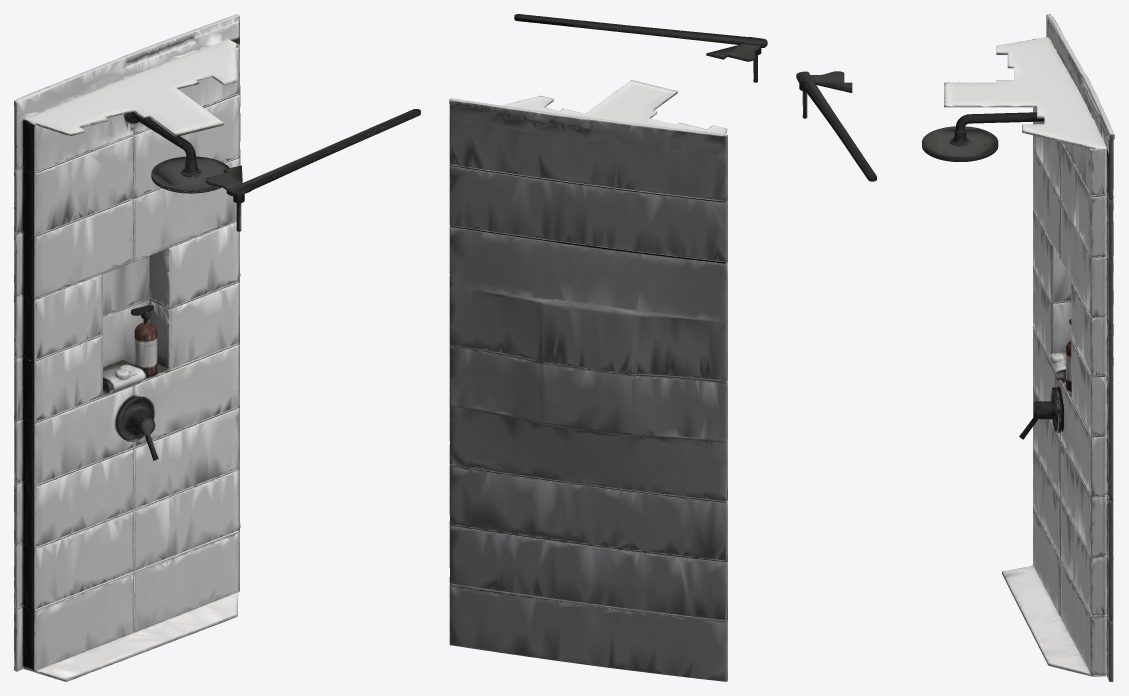
File: douche.glb
The picture shows the model from 3 angles, left to right: view 1: azimuth 30°, elevation 25°; view 2: azimuth 150°, elevation 25°; view 3: azimuth 270°, elevation 25°; orthographic projection. The views are drawn at different scales.
Visible parts, largest first — view 1: tripo_node_a0edab17-4a8c-468b-a05d-5a0b6f6bf602; view 2: tripo_node_a0edab17-4a8c-468b-a05d-5a0b6f6bf602; view 3: tripo_node_a0edab17-4a8c-468b-a05d-5a0b6f6bf602.
Boxes of the visible parts, bbox=[...] form: tripo_node_a0edab17-4a8c-468b-a05d-5a0b6f6bf602: bbox=[14, 14, 420, 681]; tripo_node_a0edab17-4a8c-468b-a05d-5a0b6f6bf602: bbox=[449, 14, 767, 681]; tripo_node_a0edab17-4a8c-468b-a05d-5a0b6f6bf602: bbox=[796, 14, 1114, 681].
Size of the model in its own units: 0.5632 by 0.9785 by 0.515.
Materials: 1 (1 with a texture image).
